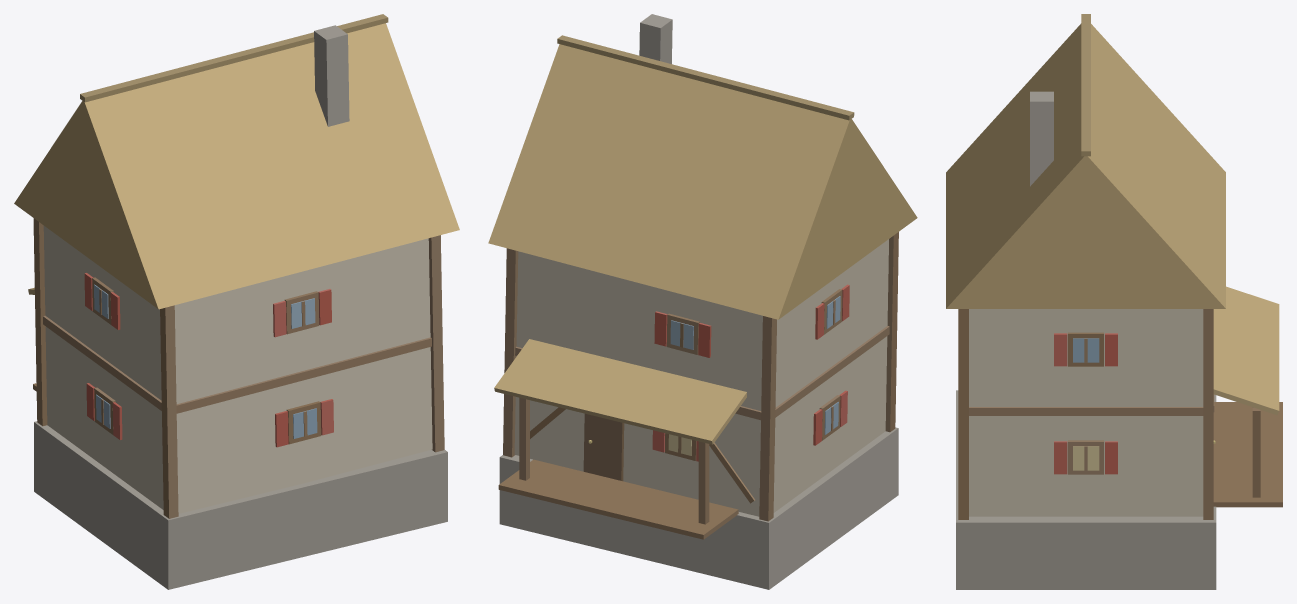
The model's file is farmhouse.glb.
3 views of the same model, side by side, from view 1: azimuth 30°, elevation 25°; view 2: azimuth 150°, elevation 25°; view 3: azimuth 270°, elevation 25° (orthographic). The views are drawn at different scales.
Parts seen in each view (by area): view 1: farmhouse2; view 2: farmhouse2; view 3: farmhouse2.
Part boxes in pixels (bbox=[...]): farmhouse2: bbox=[14, 14, 459, 589]; farmhouse2: bbox=[488, 14, 917, 589]; farmhouse2: bbox=[946, 14, 1282, 589].
Size of the model in its own units: 7.8 by 11.59 by 7.7.
